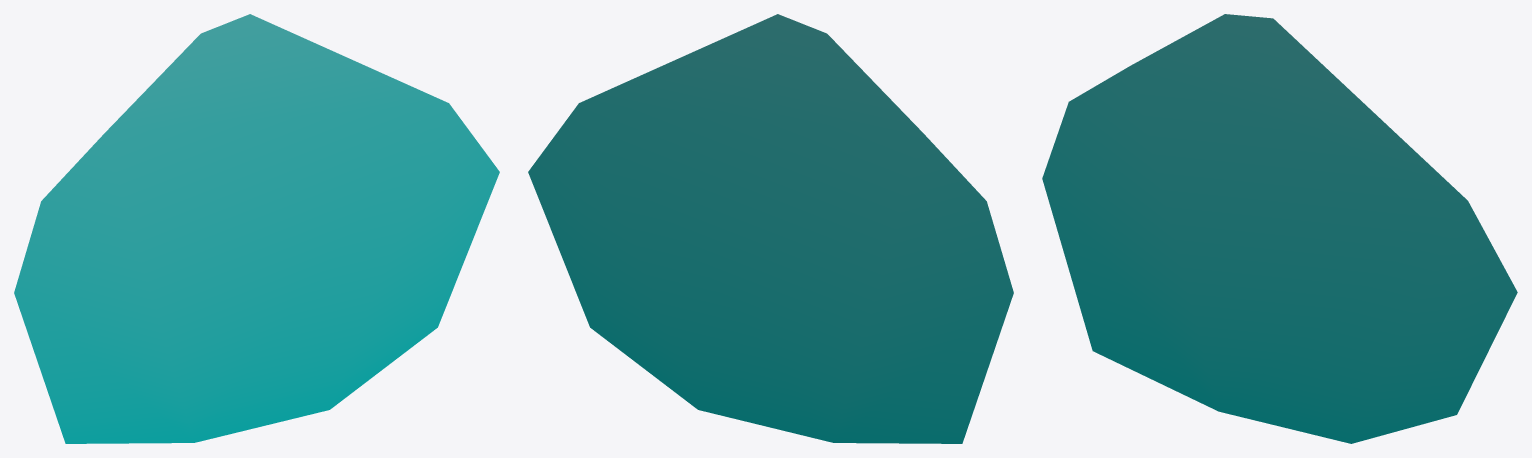
File: Bigleaf_Hydrangea_vgztealha_Mid_vgztealha_VarD_LOD3.fbx
The picture shows the model from 3 angles, left to right: view 1: azimuth 30°, elevation 25°; view 2: azimuth 150°, elevation 25°; view 3: azimuth 330°, elevation 25°; orthographic projection. The views are drawn at different scales.
Visible parts, largest first — view 1: _8o63_VarD_LOD5; view 2: _8o63_VarD_LOD5; view 3: _8o63_VarD_LOD5.
Part boxes in pixels (bbox=[...]): _8o63_VarD_LOD5: bbox=[14, 14, 499, 443]; _8o63_VarD_LOD5: bbox=[528, 14, 1013, 443]; _8o63_VarD_LOD5: bbox=[1042, 14, 1517, 443].
Bounding box in the file's own units: 129 × 105 × 0.
